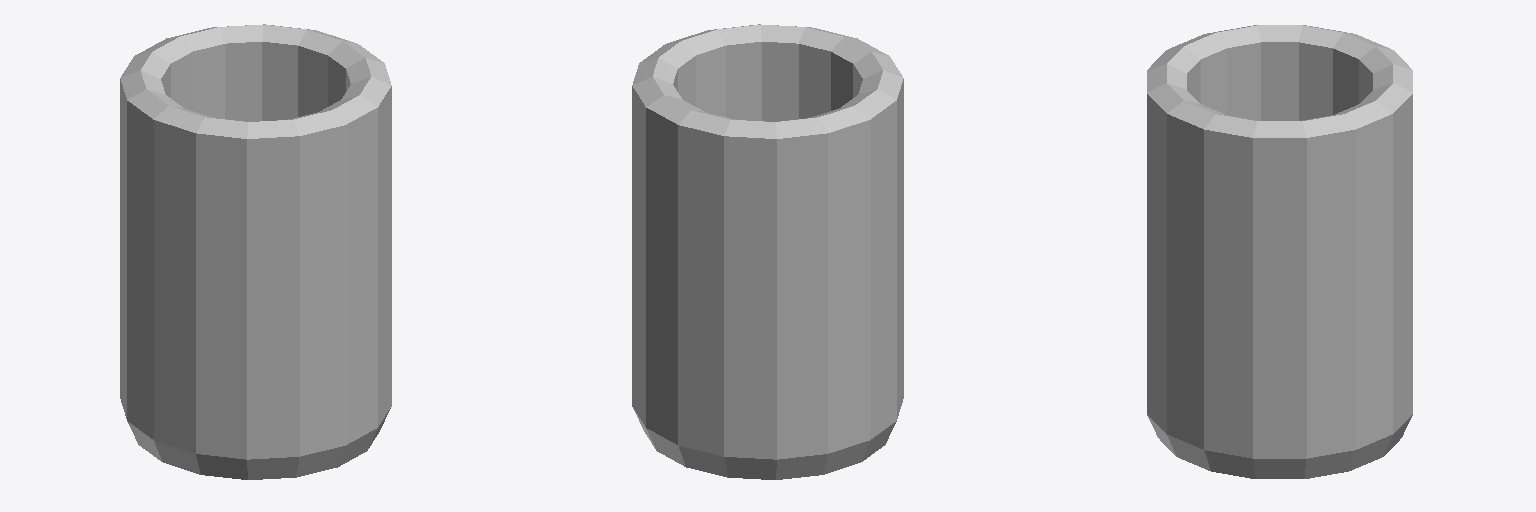
File: toothbrush_cup.obj
3 renders of one model, left to right at view 1: azimuth 30°, elevation 25°; view 2: azimuth 150°, elevation 25°; view 3: azimuth 270°, elevation 25°, orthographic.
Visible parts, largest first — view 1: toothbrush_cup; view 2: toothbrush_cup; view 3: toothbrush_cup.
Part boxes in pixels (bbox=[...]): toothbrush_cup: bbox=[120, 24, 391, 479]; toothbrush_cup: bbox=[632, 24, 903, 479]; toothbrush_cup: bbox=[1147, 25, 1412, 478].
Size of the model in its own units: 0.288 by 0.4348 by 0.288.